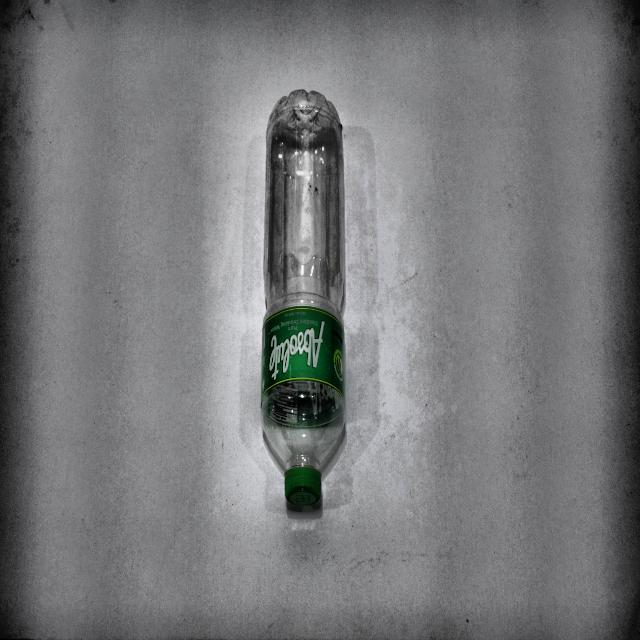Bottles: (257, 85, 356, 515)
